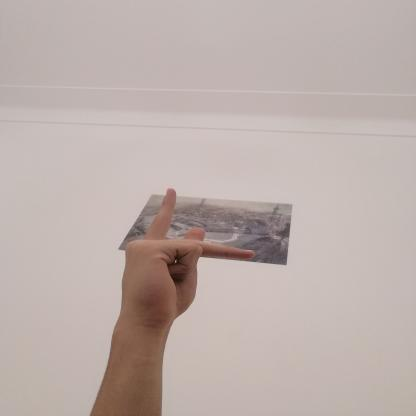DHAA: (109, 179, 268, 330)
